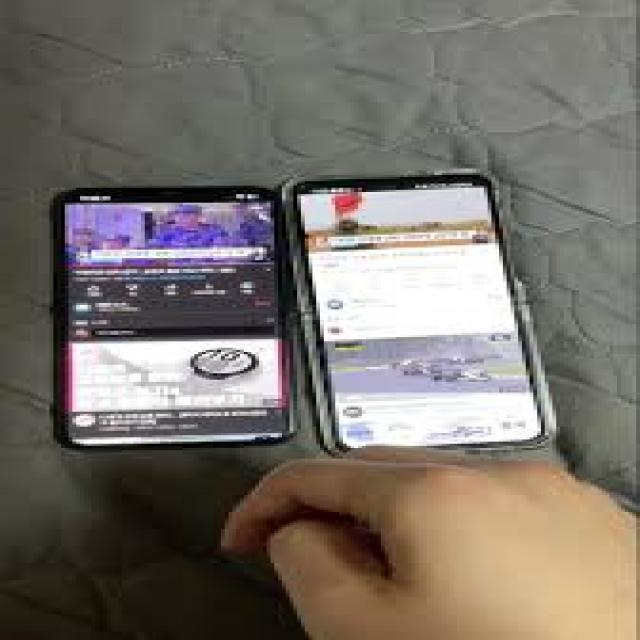Phone: (284, 167, 562, 456), (48, 184, 301, 453)
